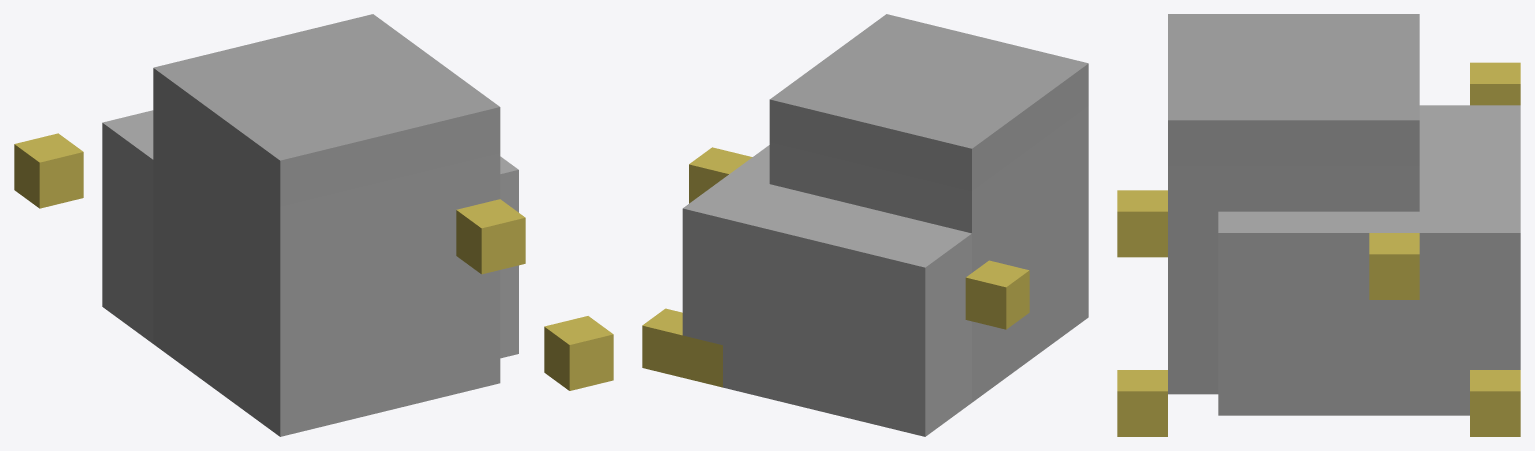
File: veta_oro_03.glb
3 views of the same model, side by side, from view 1: azimuth 30°, elevation 25°; view 2: azimuth 150°, elevation 25°; view 3: azimuth 270°, elevation 25° (orthographic). The views are drawn at different scales.
Visible parts, largest first — view 1: veta_oro_03; view 2: veta_oro_03; view 3: veta_oro_03.
Part boxes in pixels (box(x1,y1,x2,y2)): veta_oro_03: box(14, 14, 613, 436); veta_oro_03: box(642, 14, 1088, 436); veta_oro_03: box(1117, 14, 1520, 436).
Bounding box in the file's own units: 0.9 × 0.6 × 0.8.
